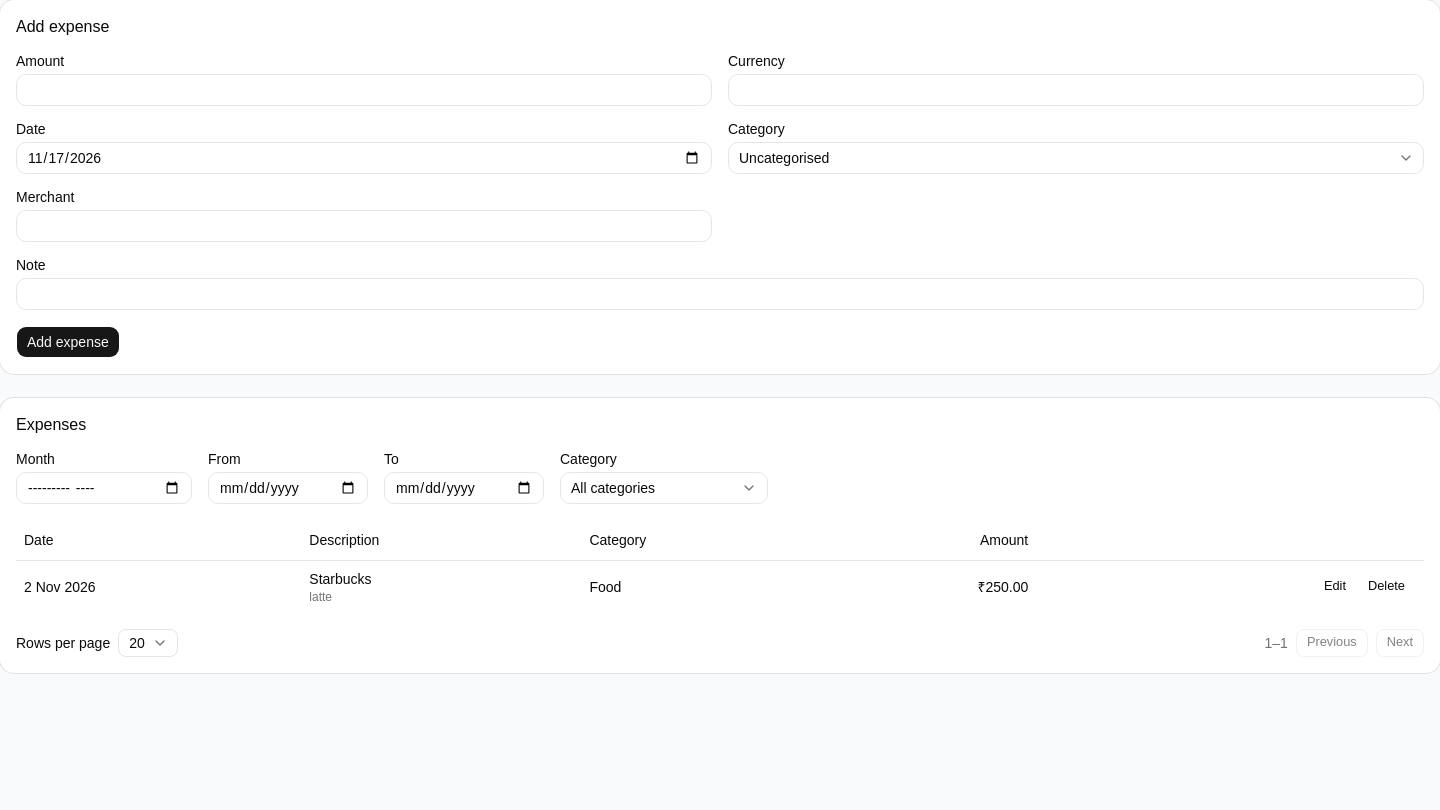
saving sends a PATCH with the changes and closes the dialog
Click the button with aria-label "Edit Starbucks": point(1335, 586) [1313,572,1357,600]
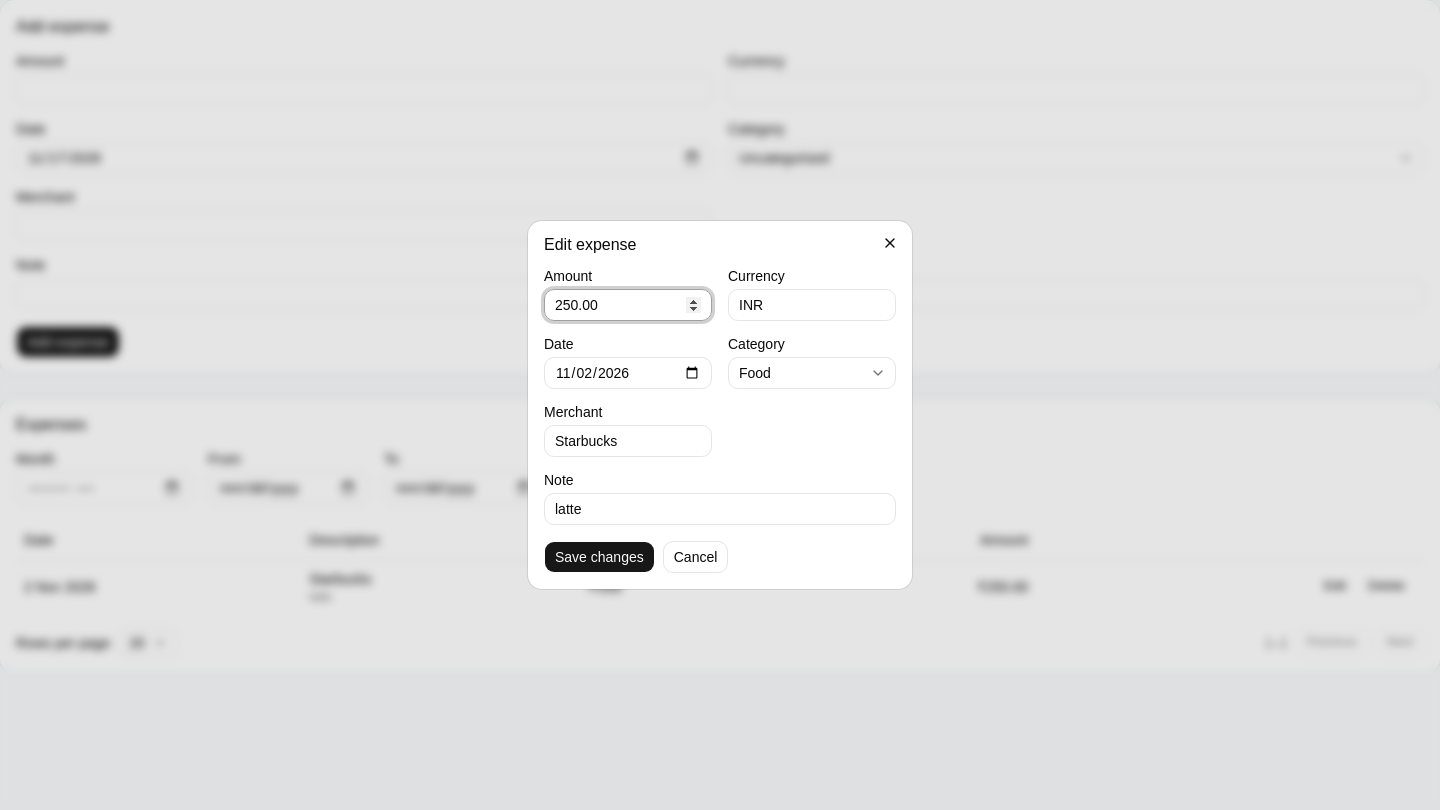
Replace the text in the number field labelled "Amount" with "300": point(628, 305) [544,289,712,321]
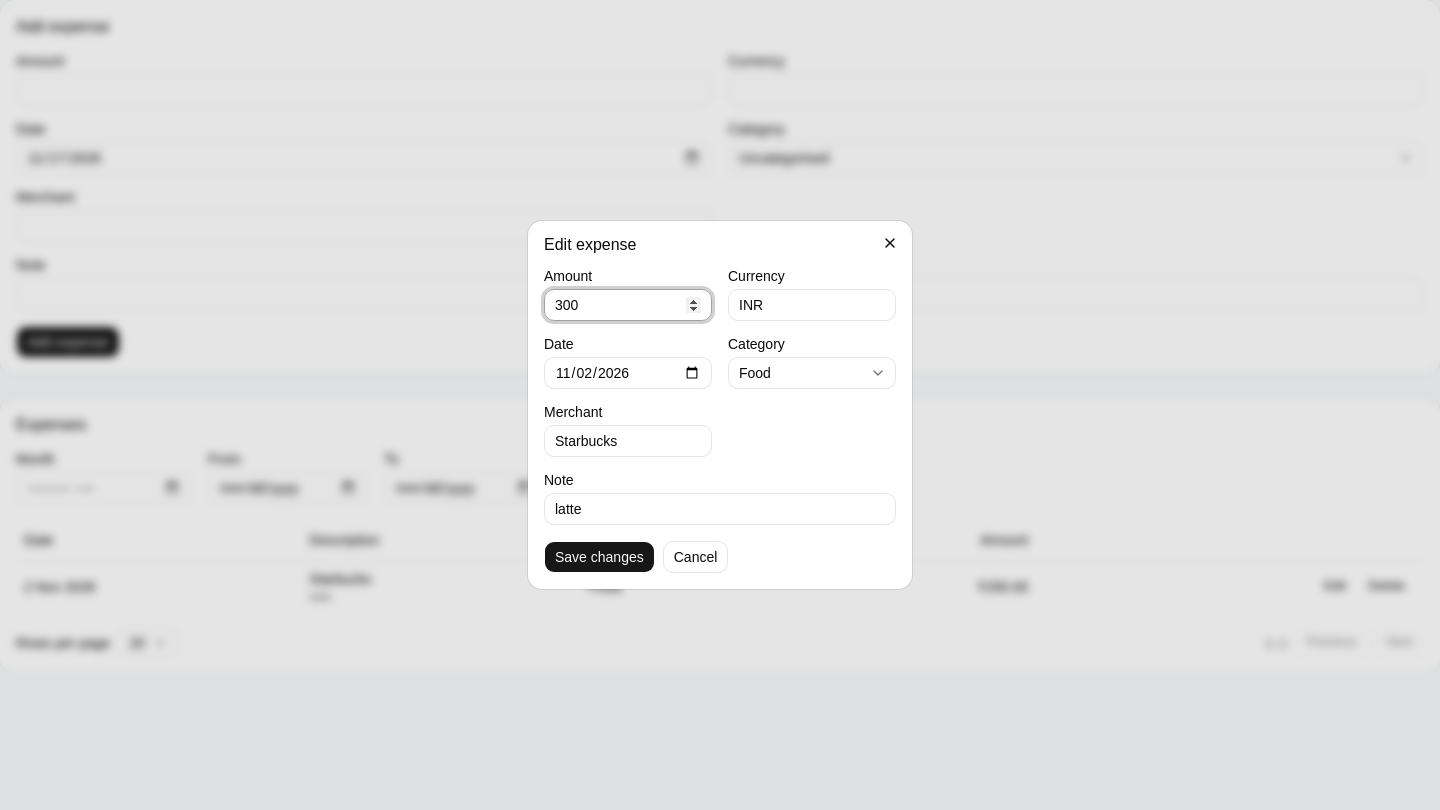
Select "Bills" in the dropdown labelled "Category": point(812, 373) [728,357,896,389]
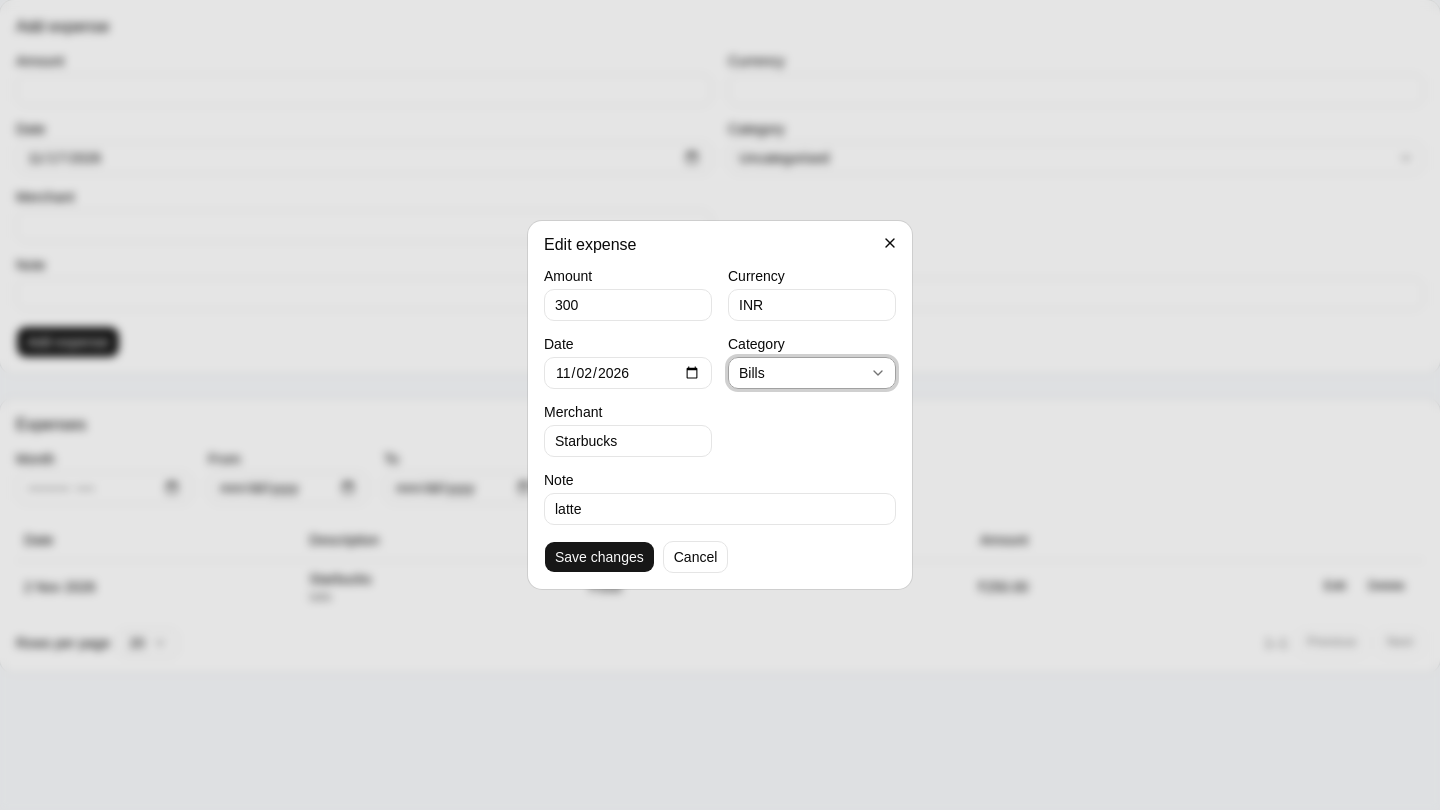
Click the button "Save changes": point(599, 557) [544,541,655,573]
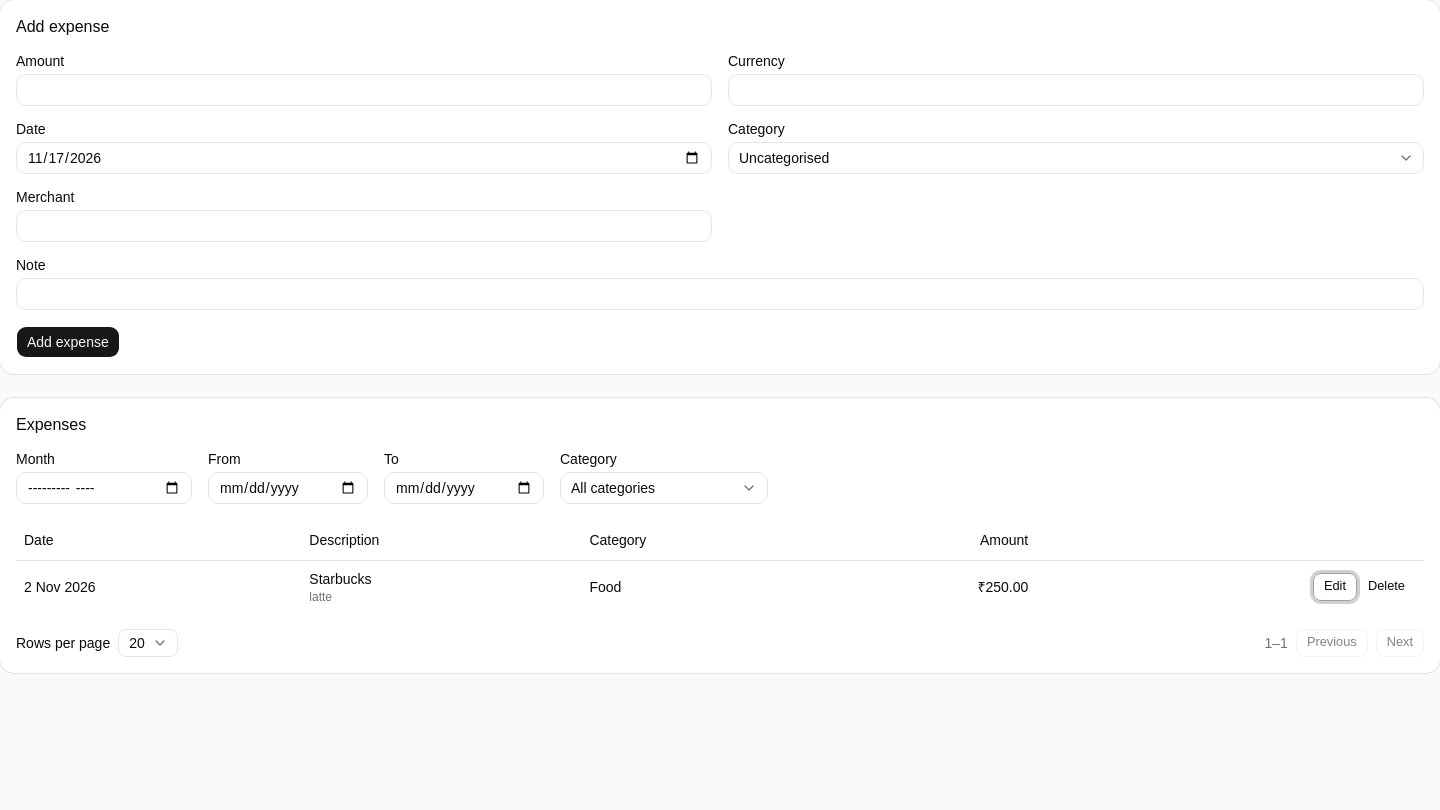
Result: the dialog is gone
